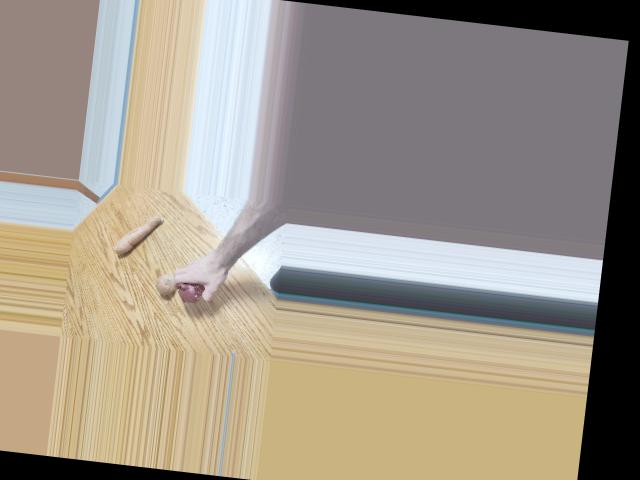onion: (153, 271, 178, 297)
